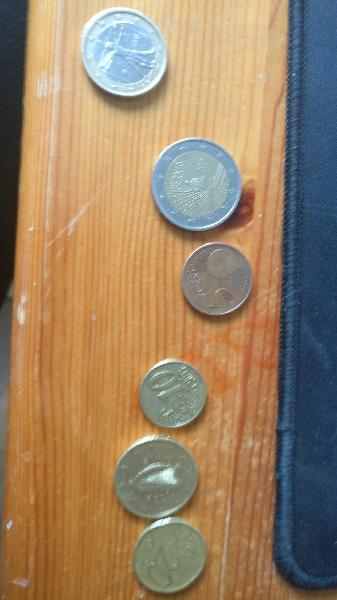Fifty Cent: (115, 432, 215, 519)
Five Cent: (181, 243, 256, 319)
One Euro: (80, 7, 173, 95)
Ten Cent: (139, 359, 217, 429)
Twenty Cent: (130, 520, 209, 594)
Two Euro: (153, 136, 238, 233)
